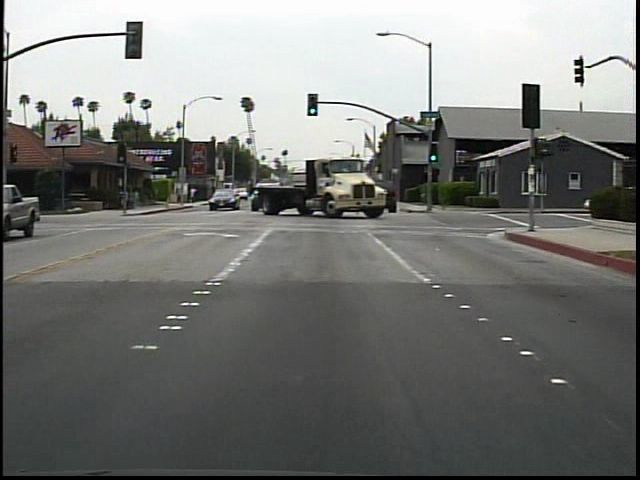person: (189, 183, 201, 206)
